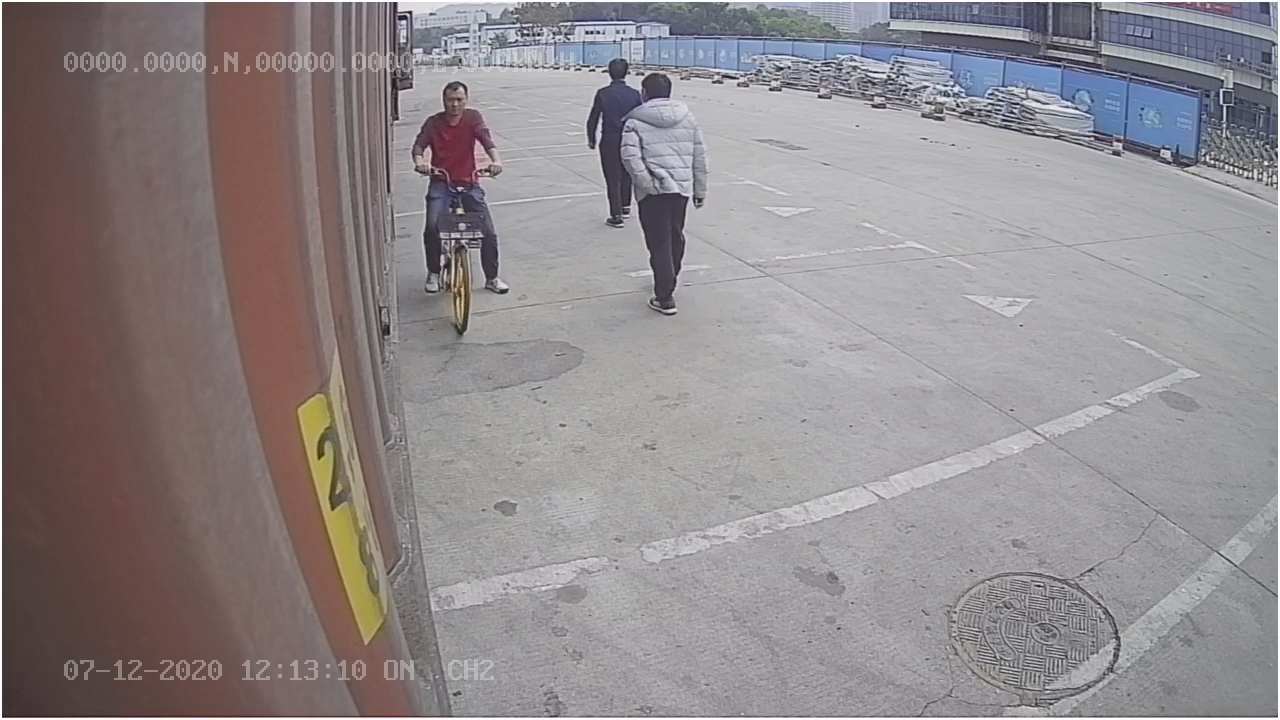person: (621, 67, 711, 317)
